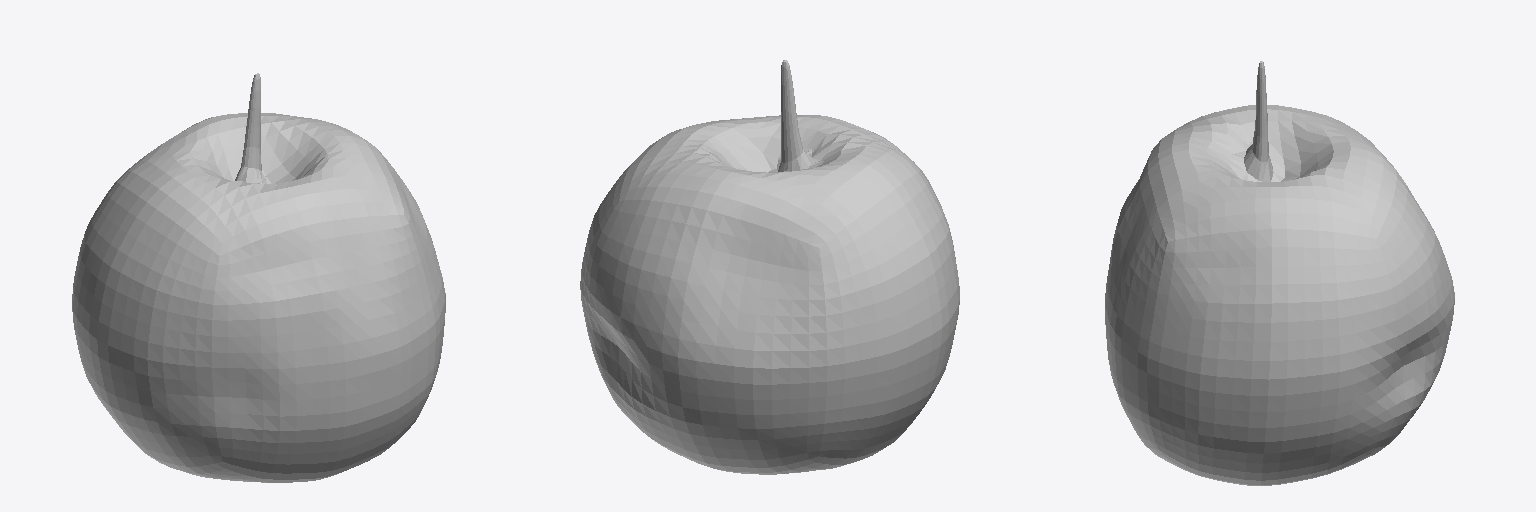
The model's file is яблоко.obj.
3 views of the same model, side by side, from view 1: azimuth 30°, elevation 25°; view 2: azimuth 150°, elevation 25°; view 3: azimuth 270°, elevation 25° (orthographic).
Parts seen in each view (by area): view 1: яблоко; view 2: яблоко; view 3: яблоко.
Boxes of the visible parts, <box> form: яблоко: <box>72,73,445,482</box>; яблоко: <box>580,60,959,474</box>; яблоко: <box>1105,61,1454,485</box>.
Size of the model in its own units: 2.22 by 2.43 by 2.02.